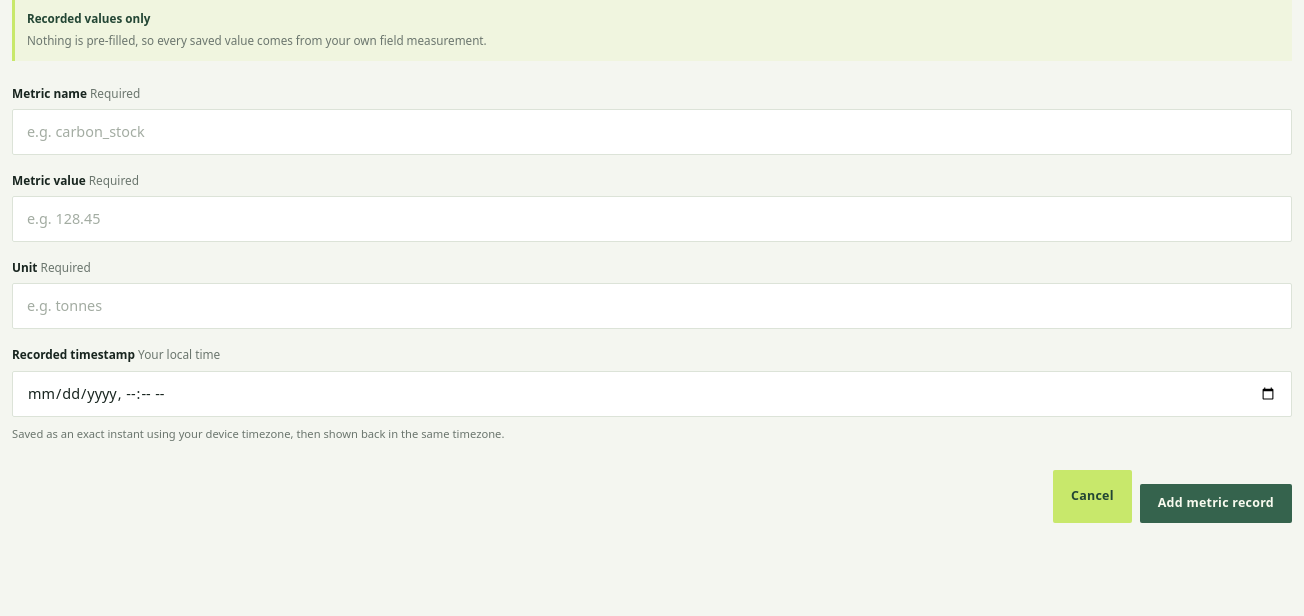
Test: MetricForm validation › requires a recorded timestamp before submitting
This screenshot has width=1304, height=616.
Type "carbon_stock" into the field labelled "Metric name Required" at x=652, y=132, box [12,109,1292,155]
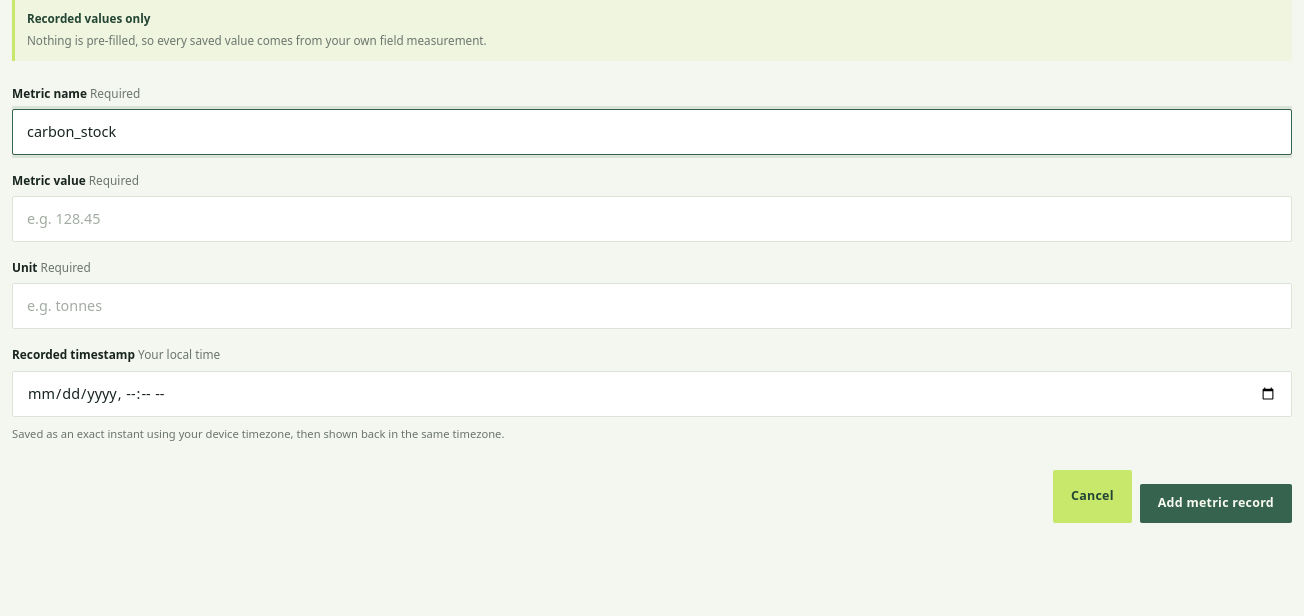
Type "128.45" into the number field labelled "Metric value Required" at x=652, y=219, box [12,196,1292,242]
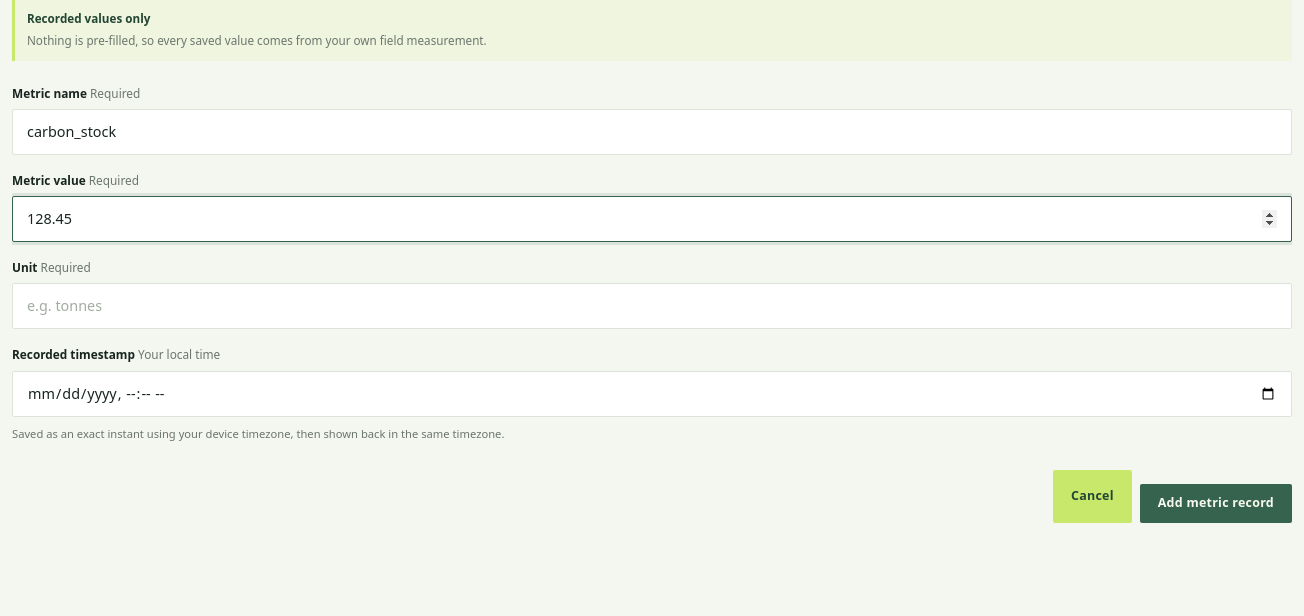
Type "tonnes" into the field labelled "Unit Required" at x=652, y=306, box [12,284,1292,330]
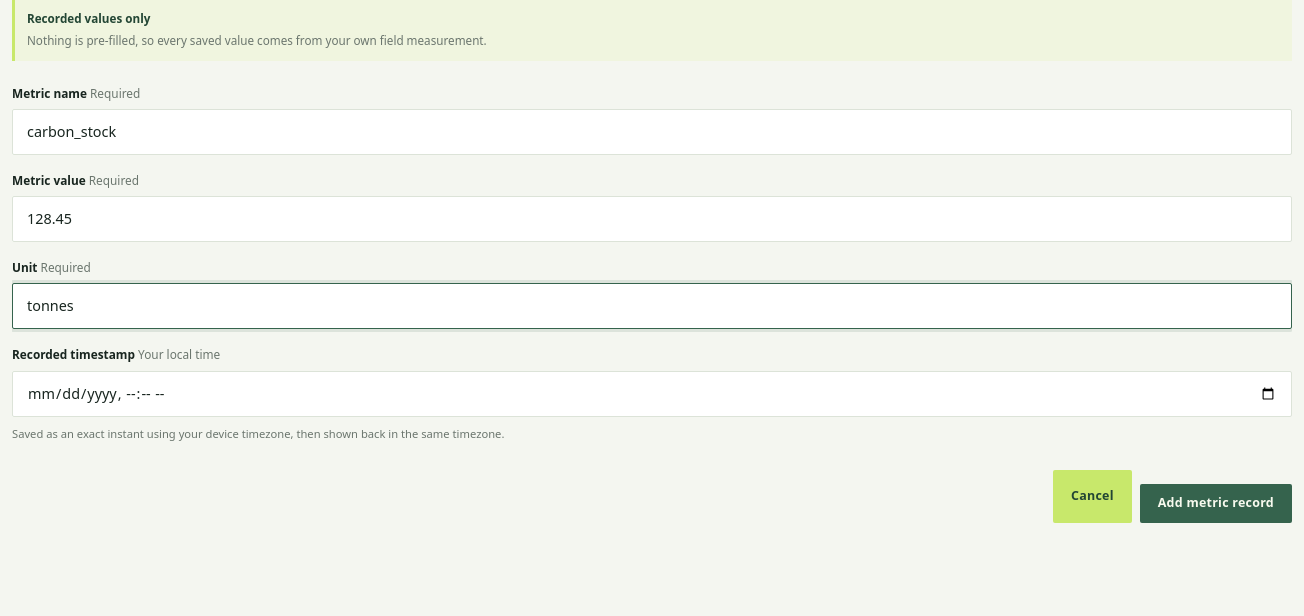
Click the button "Add metric record" at x=1216, y=504, box [1140,484,1292,523]
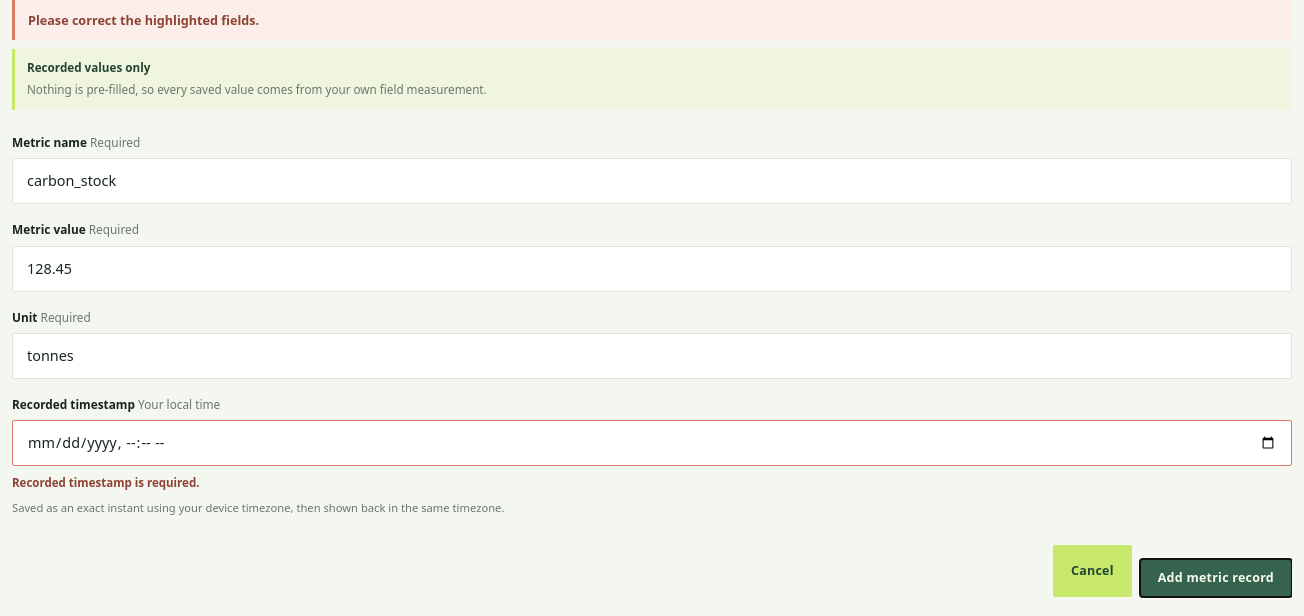
Expected: the text "Recorded timestamp is required." is shown, [12,475,200,490]
